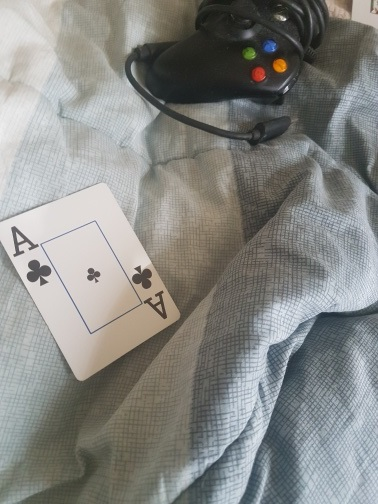ace: (1, 184, 179, 382)
